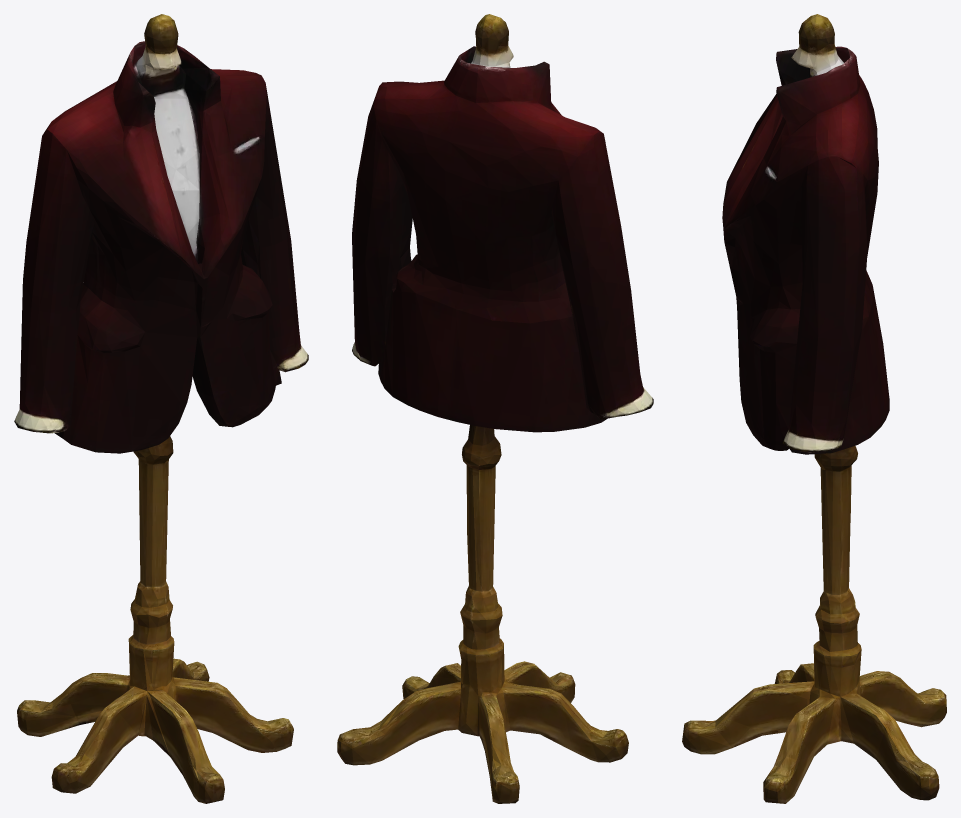
Rendered from rack_clothing_2.glb.
3 views of the same model, side by side, from view 1: azimuth 30°, elevation 25°; view 2: azimuth 150°, elevation 25°; view 3: azimuth 270°, elevation 25° (orthographic).
Parts seen in each view (by area): view 1: geometry_0; view 2: geometry_0; view 3: geometry_0.
Boxes of the visible parts, bbox=[...] form: geometry_0: bbox=[14, 14, 308, 803]; geometry_0: bbox=[337, 14, 653, 803]; geometry_0: bbox=[682, 14, 946, 803].
Size of the model in its own units: 0.4146 by 0.9989 by 0.3243.
Materials: 1 (1 with a texture image).
